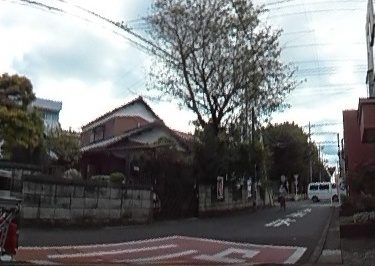person: (276, 181, 287, 206)
